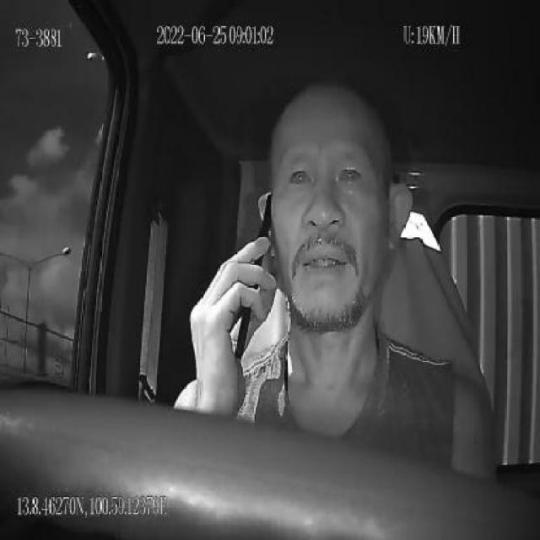phone: (234, 192, 274, 365)
